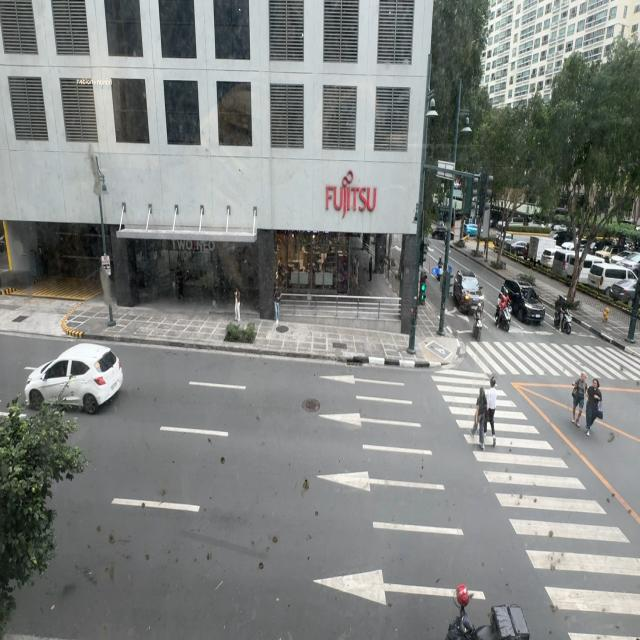crossing: (472, 384, 487, 450), (486, 376, 498, 446)
jaywalking: (584, 376, 603, 435), (571, 370, 588, 427)
pedestrain: (274, 284, 282, 327)
